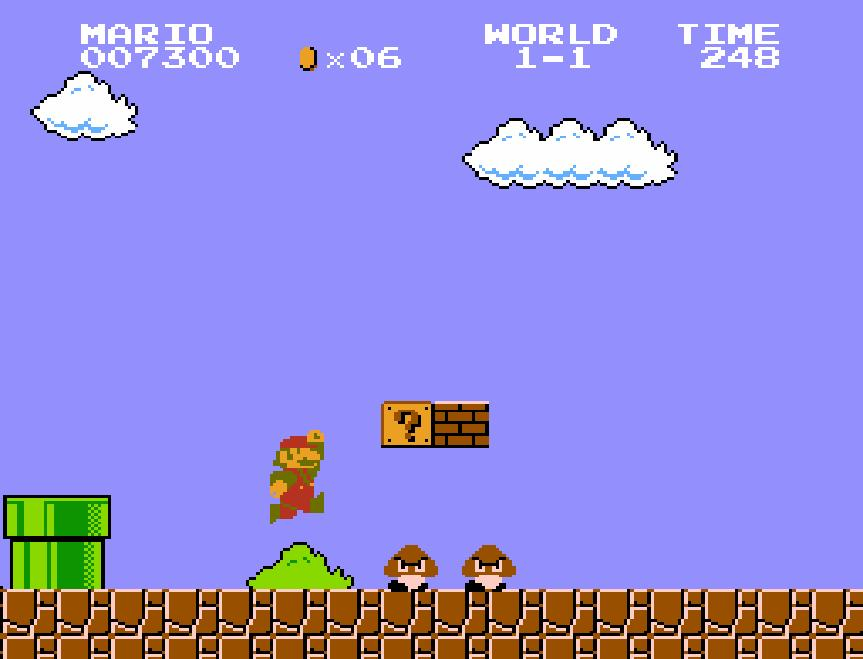big_mario: (267, 428, 325, 526)
